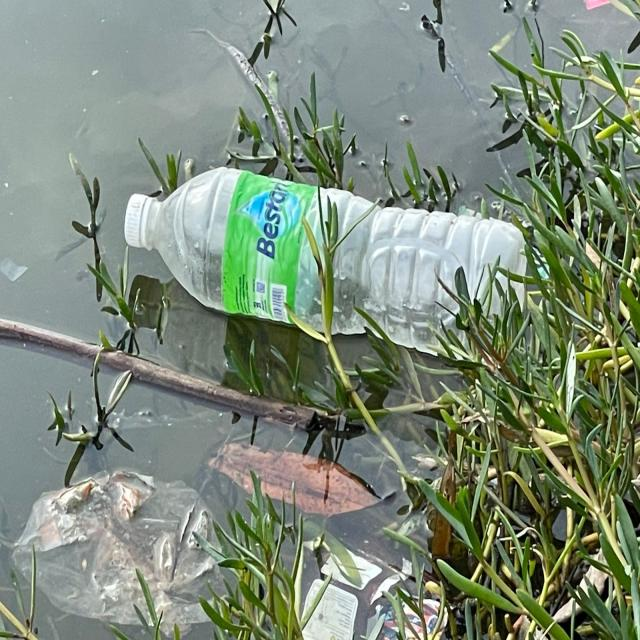Botol Plastik: (119, 165, 537, 365)
Kantong Plastik: (15, 464, 233, 636)
